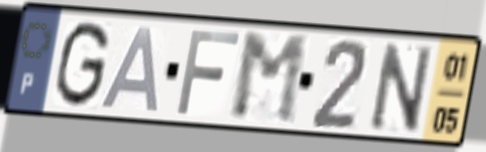2: (309, 35, 372, 133)
A: (97, 24, 162, 115)
F: (173, 27, 243, 118)
G: (52, 18, 113, 111)
M: (229, 31, 310, 128)
N: (367, 39, 436, 134)
